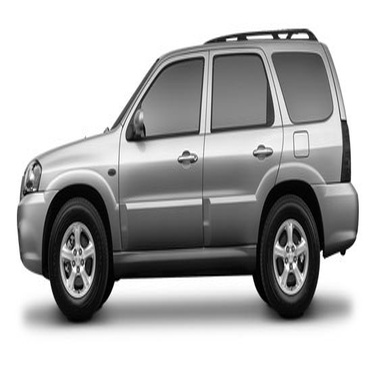car: (4, 17, 368, 322)
